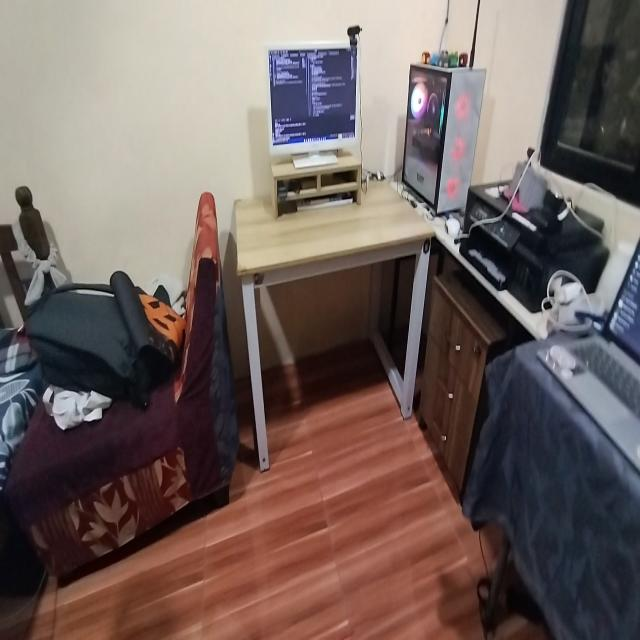table: (230, 166, 437, 484)
